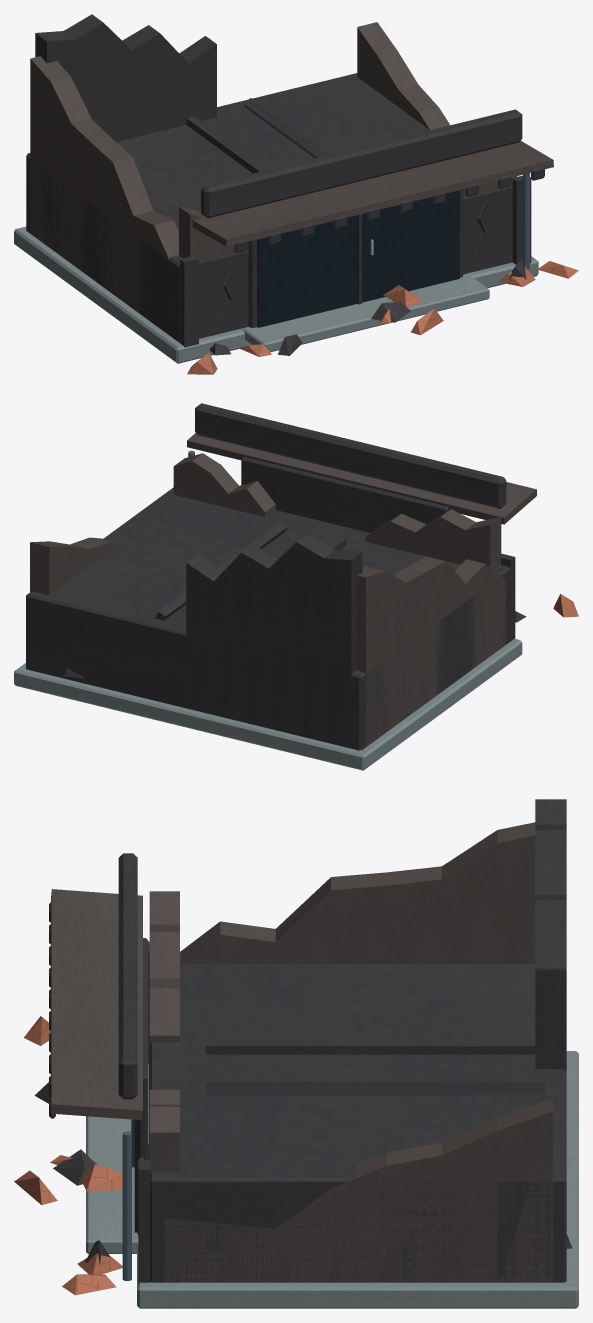
File: corner-store-ruined.glb
3 views of the same model, one above another, from view 1: azimuth 30°, elevation 25°; view 2: azimuth 150°, elevation 25°; view 3: azimuth 270°, elevation 25° (orthographic). The views are drawn at different scales.
Parts seen in each view (by area): view 1: corner-store-ruined; view 2: corner-store-ruined; view 3: corner-store-ruined.
Boxes of the visible parts, x1,y1,x2,y2 form: corner-store-ruined: (14,14,578,374); corner-store-ruined: (14,403,578,770); corner-store-ruined: (14,799,578,1308).
Size of the model in its own units: 7.2 by 3.69 by 6.49.
3 materials, 3 textured.
